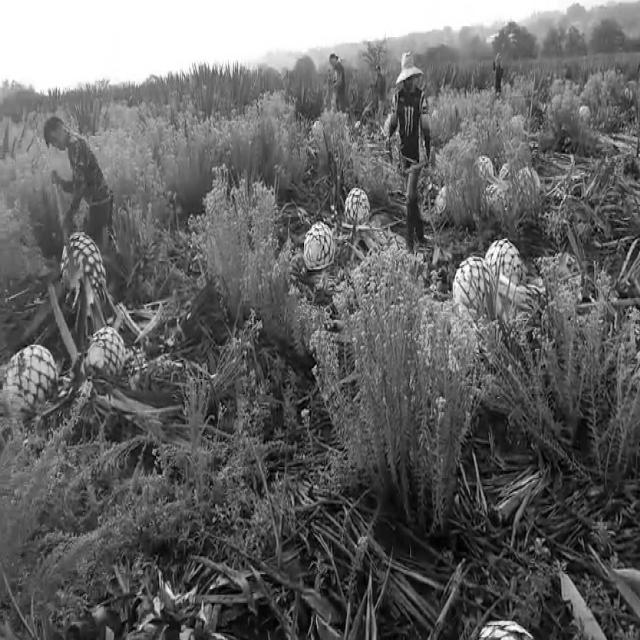agave: (53, 223, 114, 313), (2, 338, 60, 416), (453, 253, 495, 320), (86, 323, 128, 379), (486, 235, 524, 292), (302, 221, 337, 277), (339, 184, 374, 229), (472, 151, 493, 187)
